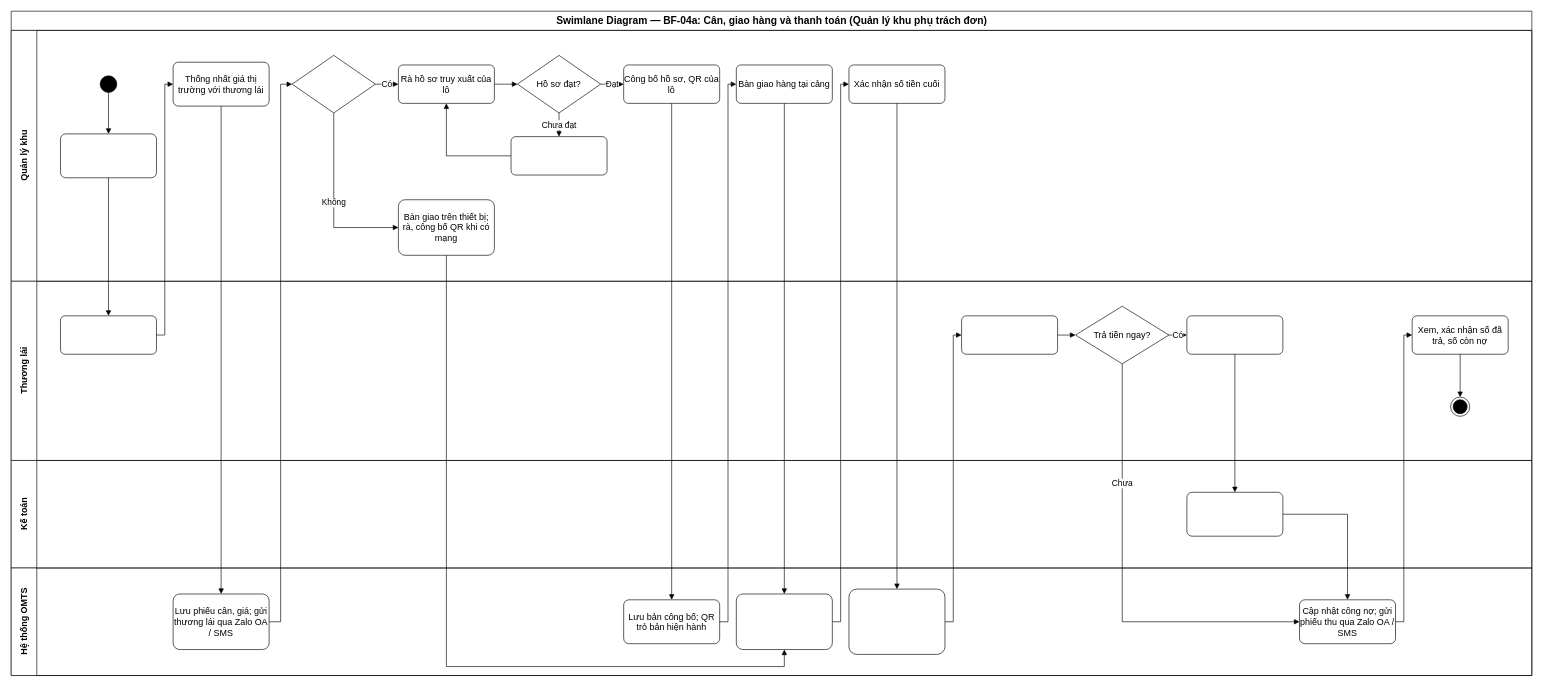
Image size: 1543x687. Some labels were removed from this diagram. Each missing label, with the centre of its shape:
"Cân chung toàn bộ hàng cùng thương lái" goes at point (108, 155).
"Cảng có mạng?" goes at point (333, 84).
"Ghi tiền thực nhận, phân bổ vào giao dịch" goes at point (1234, 514).
"Trạng thái = Đã bàn giao; tính kg × giá, làm tròn lên nghìn" goes at point (784, 621).
"Trả tiền mặt hoặc chuyển khoản" goes at point (1234, 334).
"Xem, xác nhận số tiền" goes at point (1009, 334).
"Xác nhận số cân" goes at point (108, 334).
"Đính chính dữ liệu nguồn" goes at point (558, 155).
"Đơn = Đã chốt bán; tạo biên nhận, VietQR; gửi thương lái, báo Chủ HTX" goes at point (896, 621).
